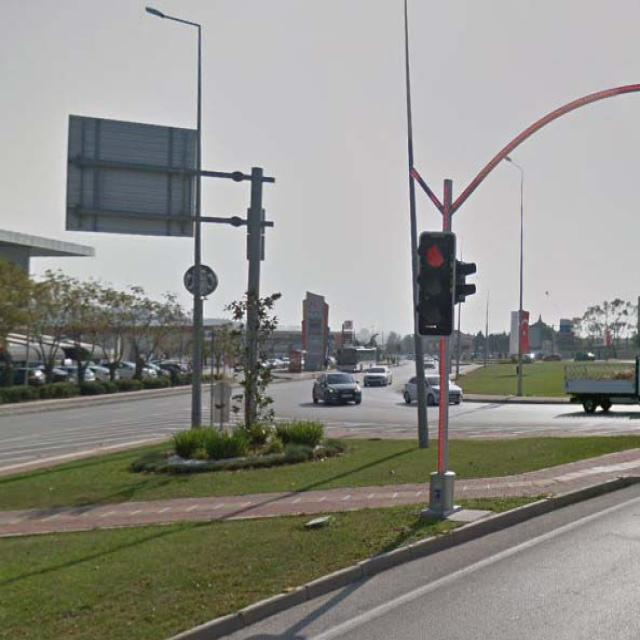kirmizi: (416, 234, 454, 328)
